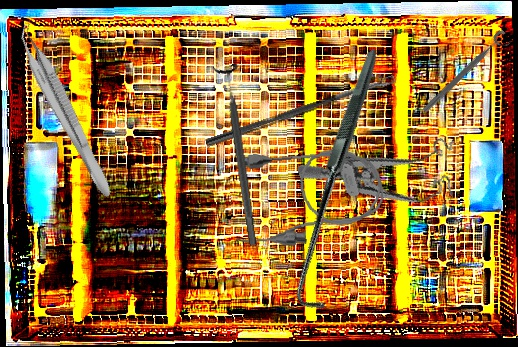Cannula: (227, 140, 388, 252)
Fixation Ring: (210, 63, 268, 248), (420, 28, 514, 120)
Hook Surgical: (205, 47, 478, 318)
Speculum: (296, 125, 468, 233)
Surgical Spoon: (204, 74, 397, 149)
Tissue Forceps: (8, 19, 124, 200)
